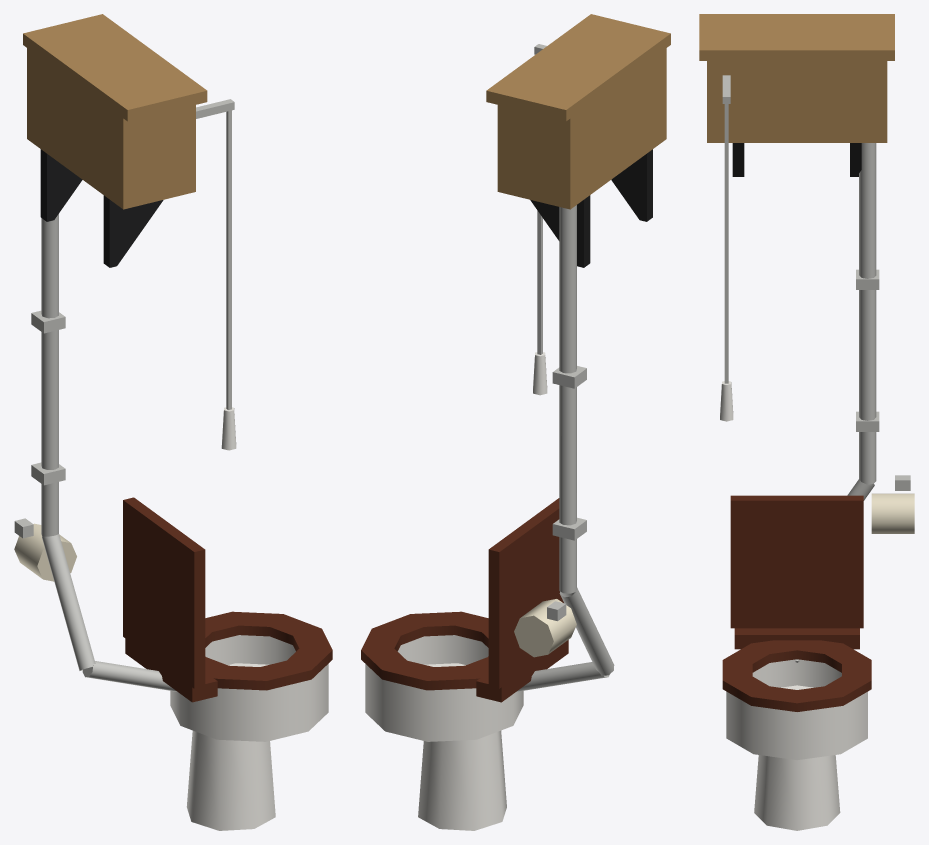
Rendered from parametric-wc-2nd-pub.glb.
The picture shows the model from 3 angles, left to right: view 1: azimuth 30°, elevation 25°; view 2: azimuth 150°, elevation 25°; view 3: azimuth 270°, elevation 25°; orthographic projection. The views are drawn at different scales.
Visible parts, largest first — view 1: parametric-wc-2nd-pub; view 2: parametric-wc-2nd-pub; view 3: parametric-wc-2nd-pub.
Part boxes in pixels (x1,y1,x2,y2): parametric-wc-2nd-pub: (14, 14, 332, 830); parametric-wc-2nd-pub: (361, 14, 670, 830); parametric-wc-2nd-pub: (699, 14, 914, 830).
Bounding box in the file's own units: 0.68 × 2.05 × 0.55.
